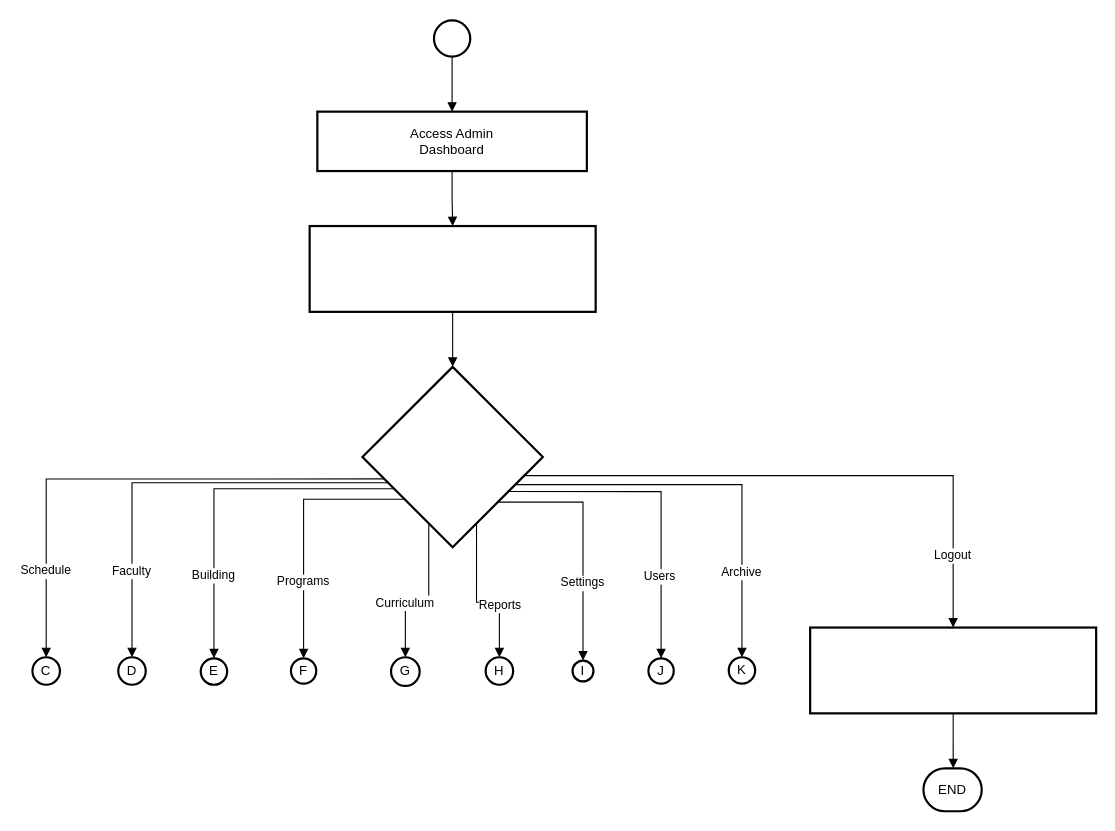
This 1115x831 diagram has some shape labels left out. The box of each missing label's shape, as (x1, y1, x2, y2) in pixels:
A2: (432, 19, 471, 57)
Display System Statistics & SQI Score: (308, 224, 596, 312)
End Session Return to Login: (809, 626, 1097, 714)
Select Module: (361, 365, 543, 548)
